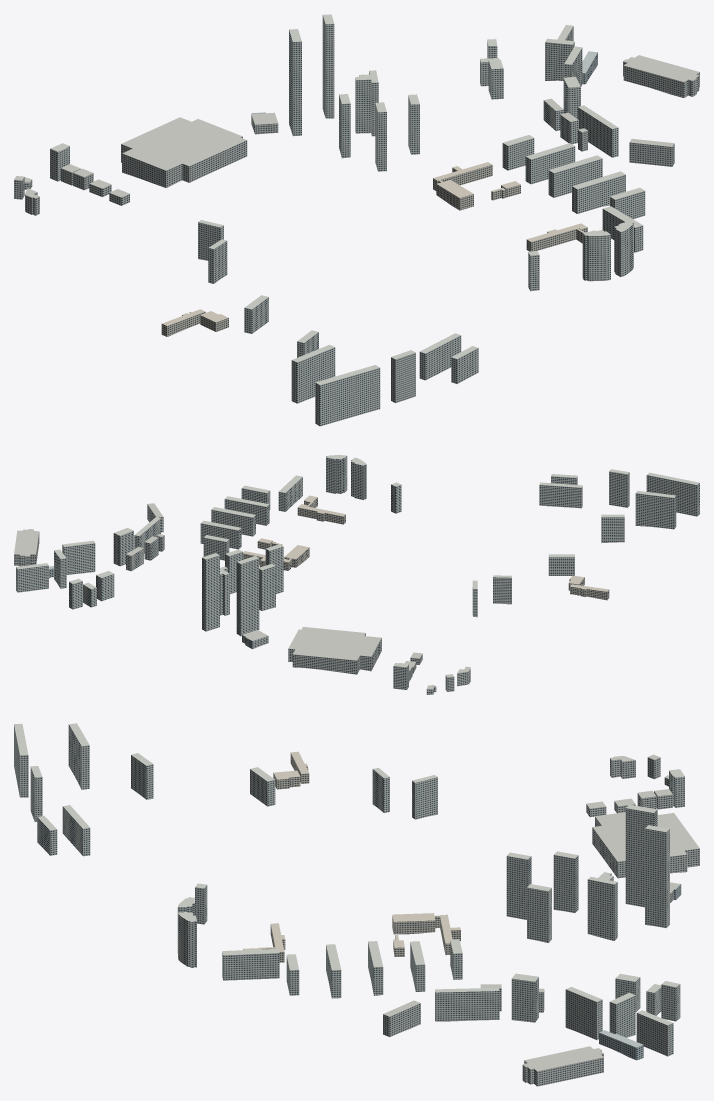
The model's file is city_6_1.glb.
3 views of the same model, one above another, from view 1: azimuth 30°, elevation 25°; view 2: azimuth 150°, elevation 25°; view 3: azimuth 270°, elevation 25° (orthographic). The views are drawn at different scales.
Size of the model in its own units: 1065 by 160 by 947.
Materials: 4 (4 with a texture image).
